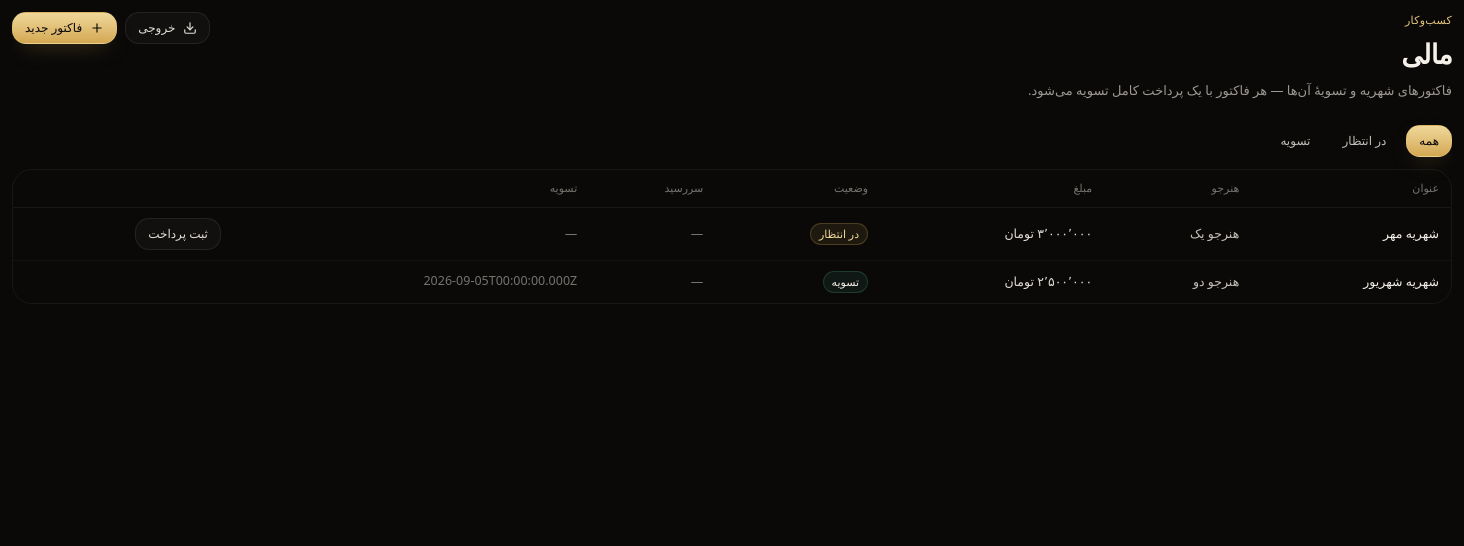
Test: FinanceView with a served backend › pays a due invoice with method and reference, and the control is gone afterwards
The image size is (1464, 546).
Expected: the table named "فهرست فاکتورها" is shown, left=13, top=170, right=1451, bottom=303
Click the button "ثبت پرداخت": click(178, 234) left=135, top=218, right=221, bottom=250
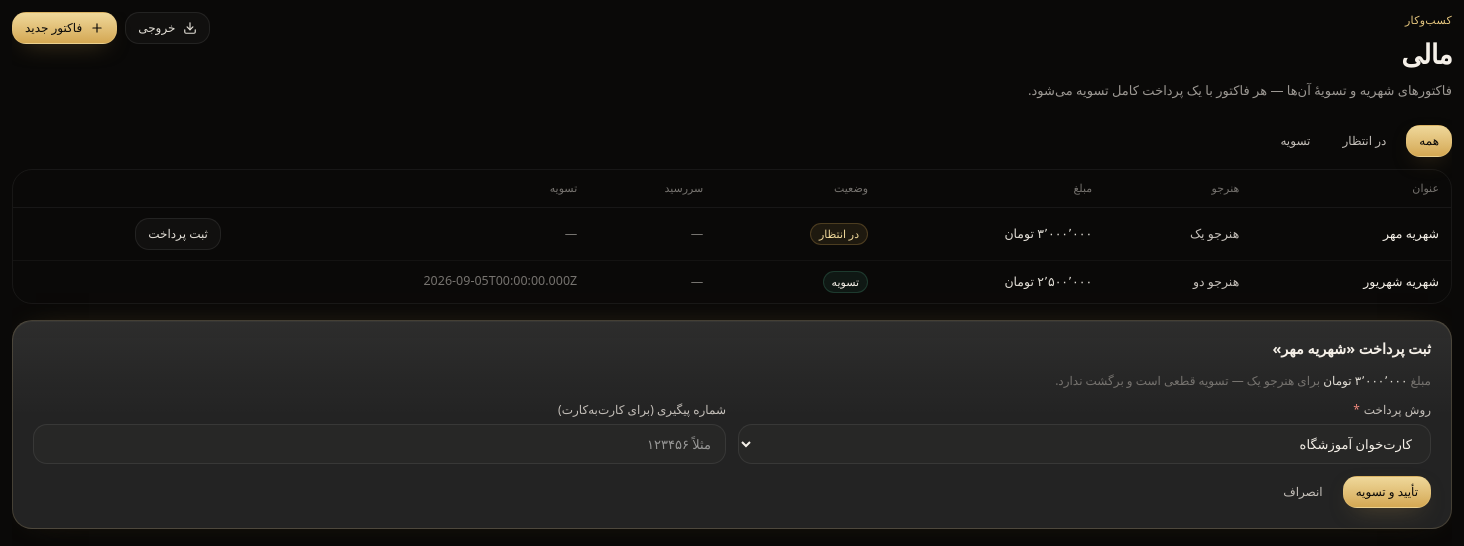
Now the heading "ثبت پرداخت «شهریه مهر»" is shown, box left=1272, top=341, right=1431, bottom=356
Select "کارت‌به‌کارت" in the dropdown labelled "روش پرداخت*": (1084, 444) left=738, top=424, right=1431, bottom=464
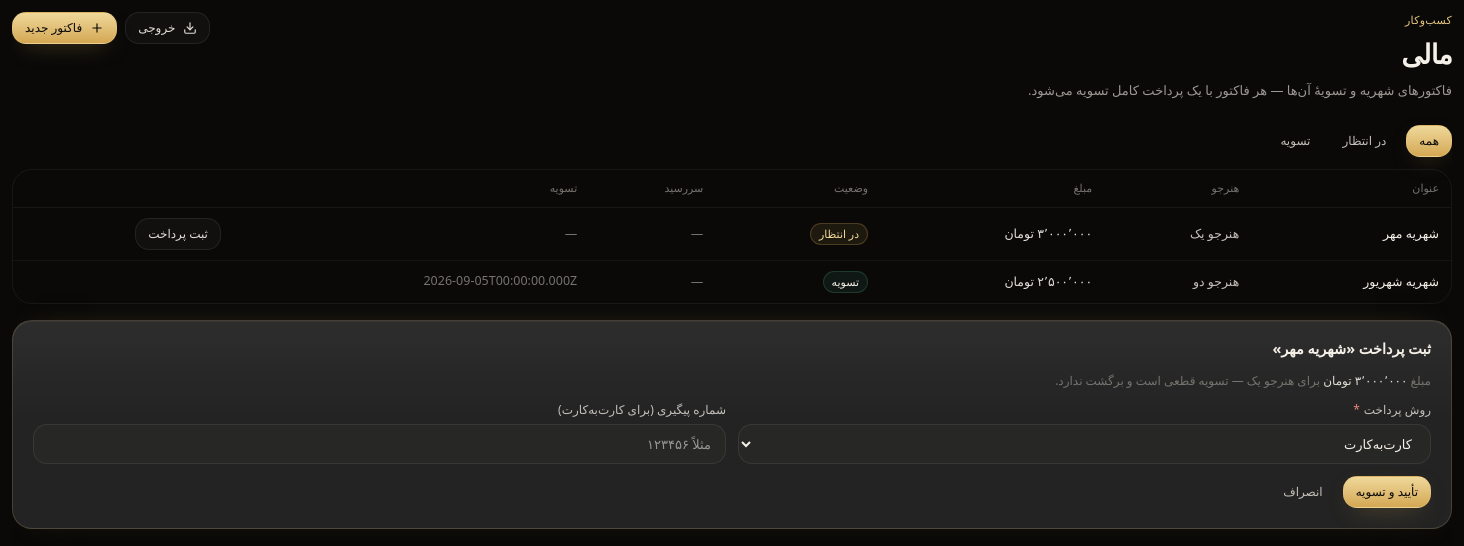
In the field with placeholder "مثلاً ۱۲۳۴۵۶": (380, 444) left=33, top=424, right=726, bottom=464, type "TT-999"
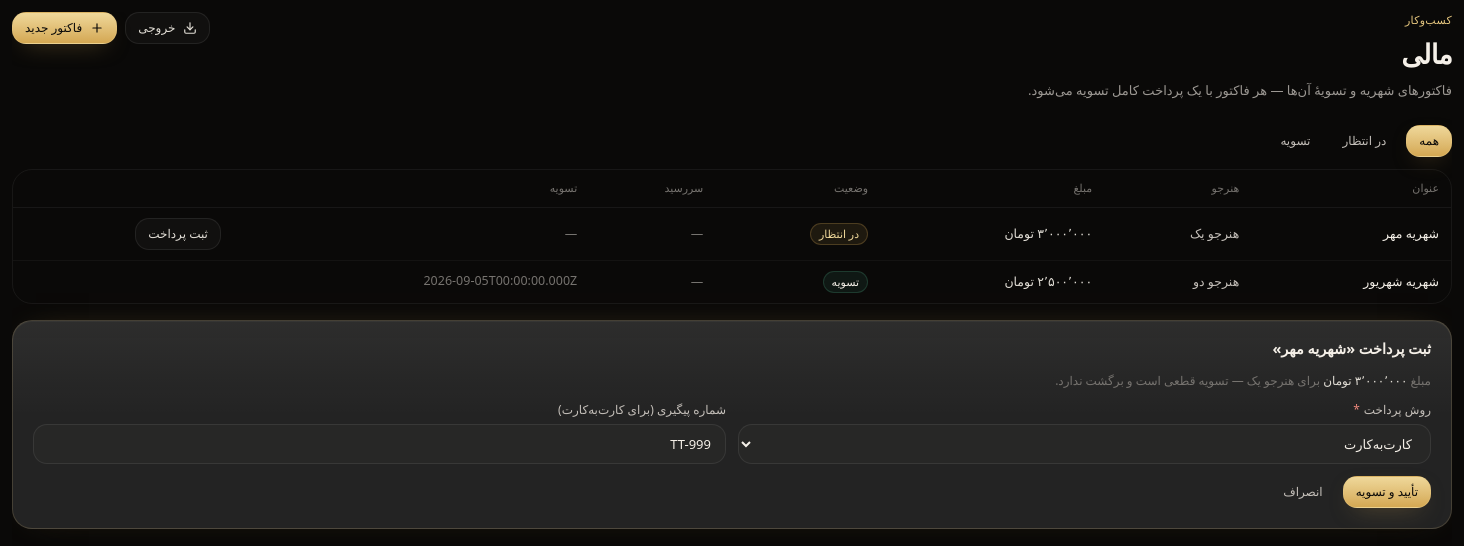
Click the button "تأیید و تسویه": click(1387, 492) left=1343, top=476, right=1431, bottom=508
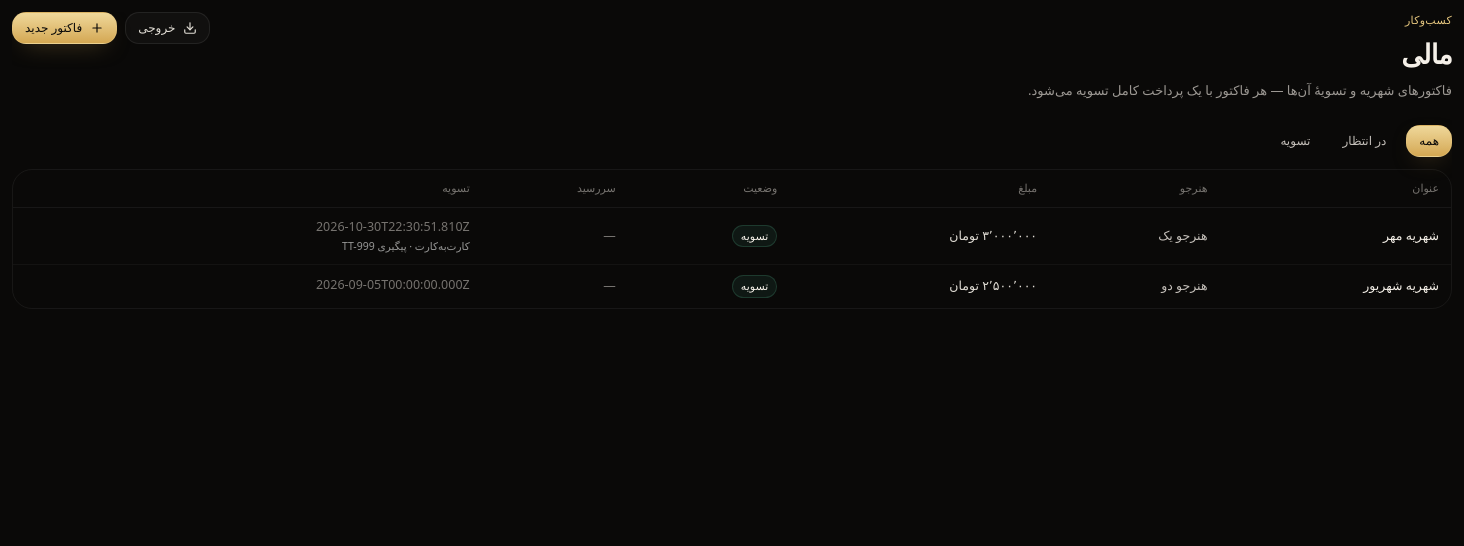
Now no buttons "ثبت پرداخت" are shown
